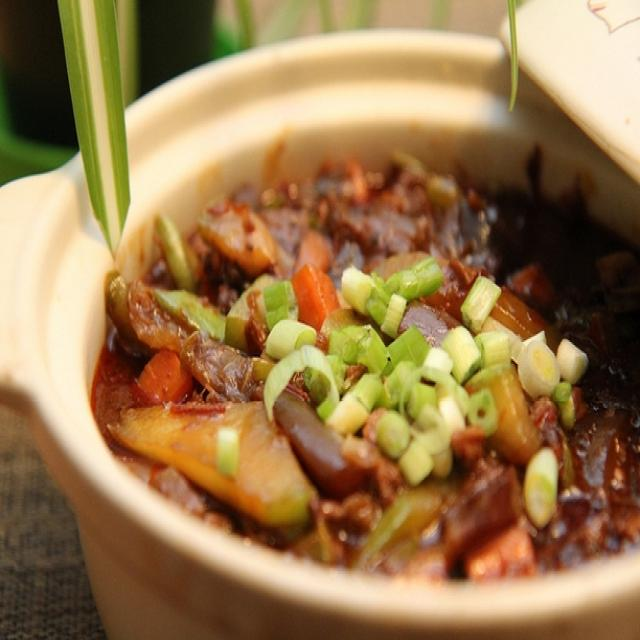鸡蛋料理: (79, 70, 616, 580)
